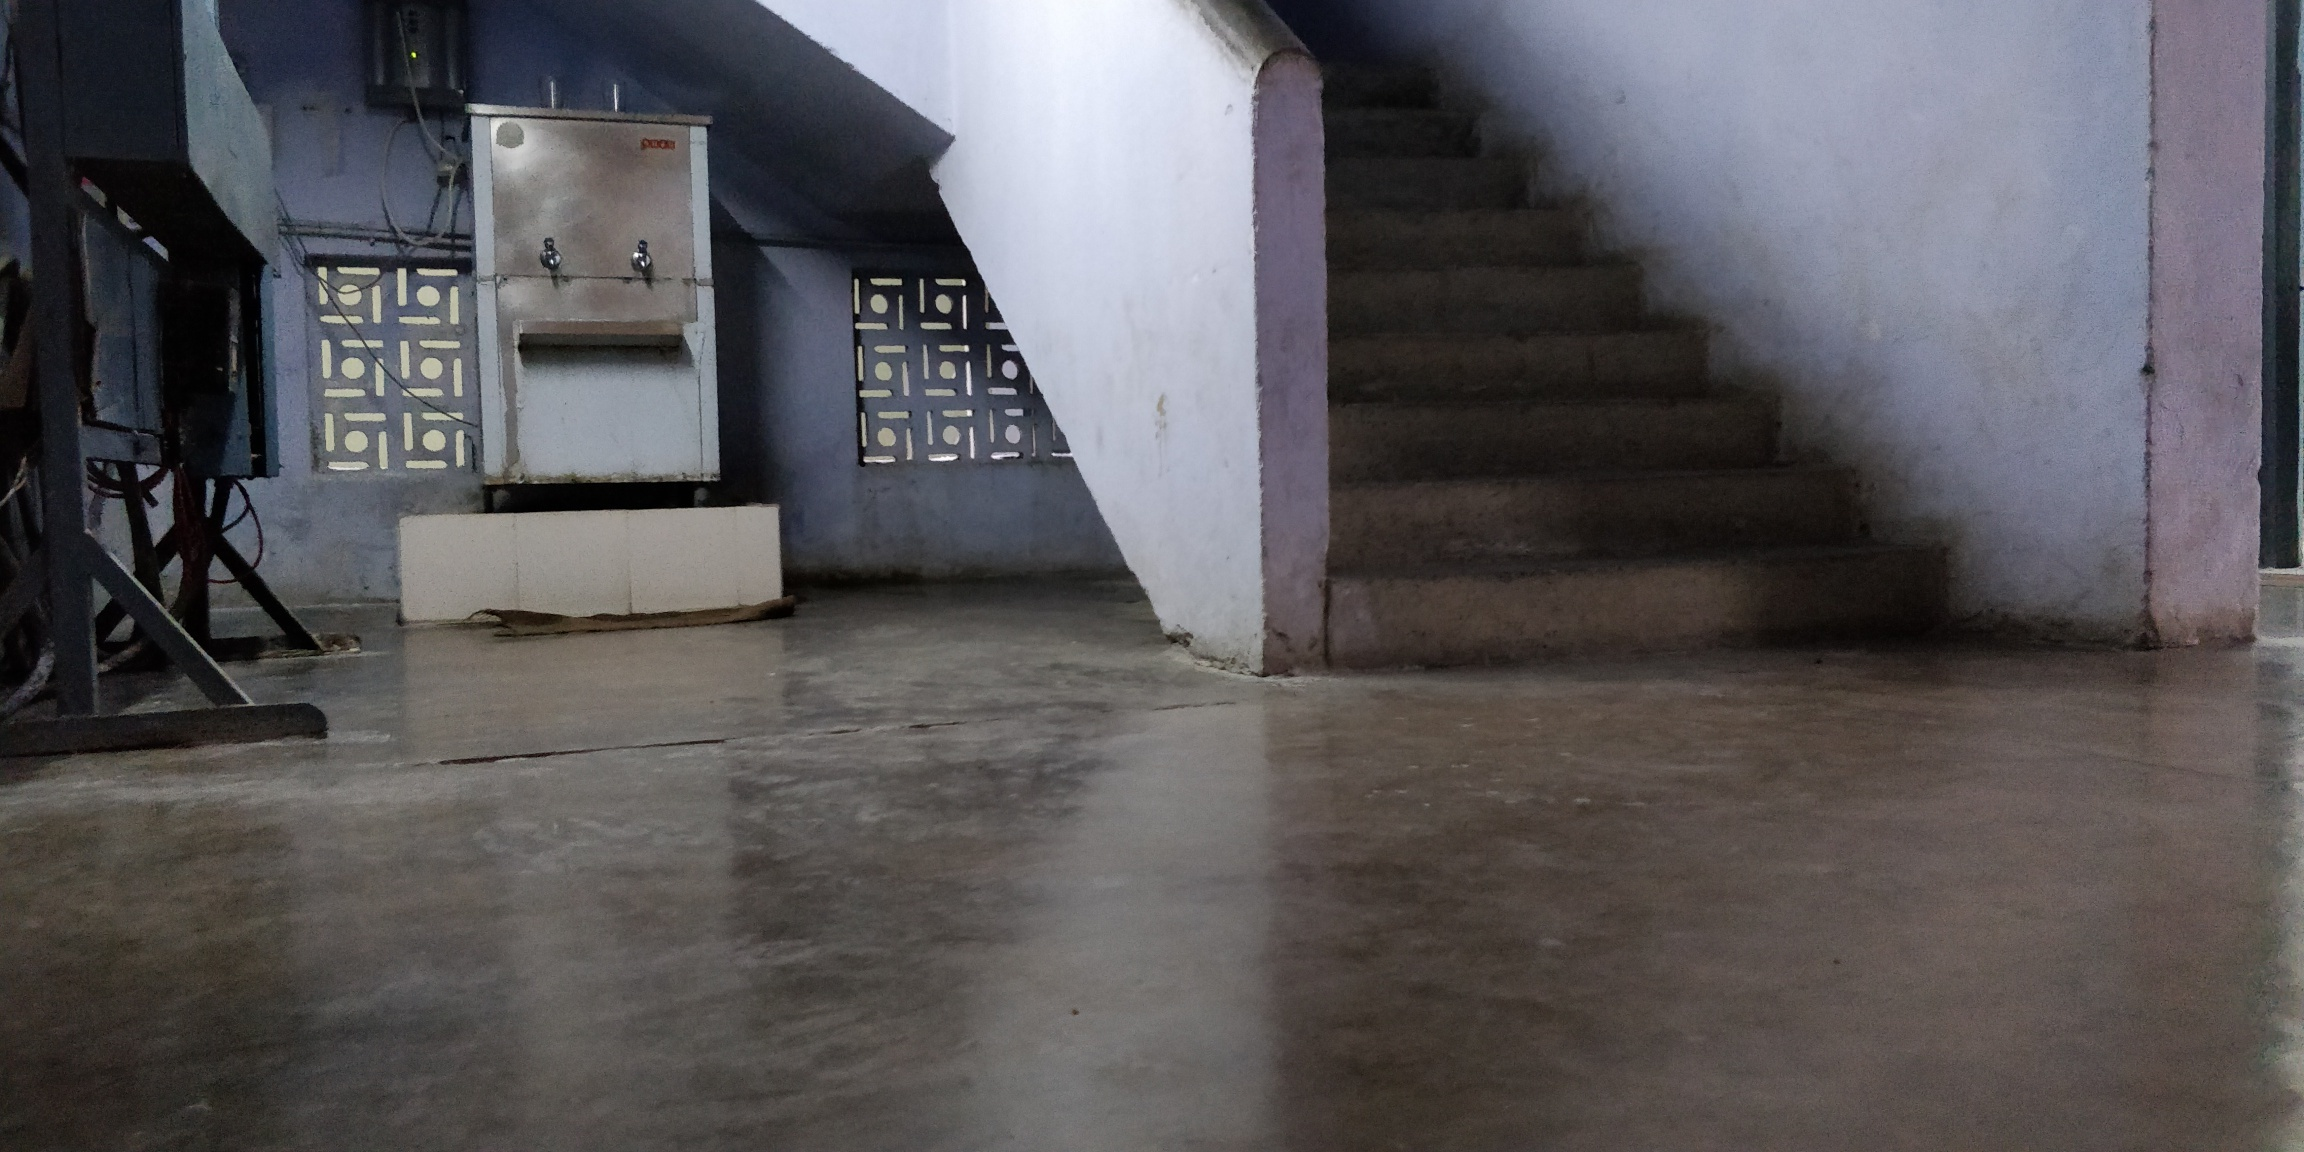stairs_up: (1325, 50, 1972, 680)
